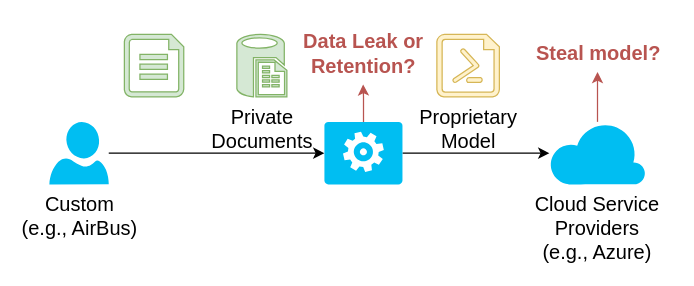
Image size: 694x286. Some labels were removed from this diagram. Here are the shapes that lost their labels. From the top down, the centre of each, then its label:
the point at 153,65: Prompt with Privacy
the point at 363,152: Foundation Model Owner (e.g., OpenAI)
